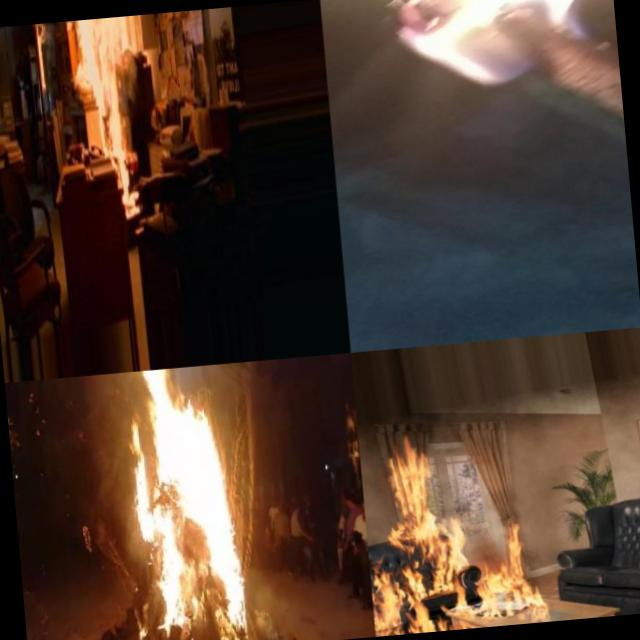fire: (358, 417, 540, 636), (375, 0, 619, 91), (152, 363, 216, 640), (70, 15, 146, 193)
